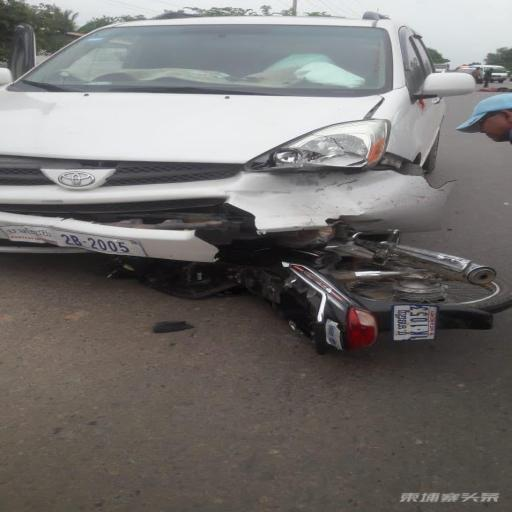Plate Number: (2, 223, 152, 258)
